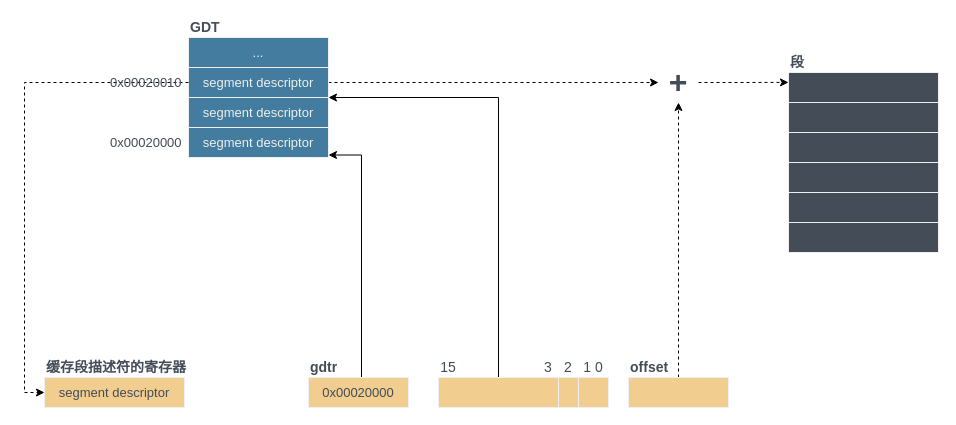
The diagram is 956 pixels wide and 425 high, and some of its shapes have lost their labels. The box of each missing label's shape, as (x1, y1, x2, y2) in pixels:
index: (438, 376, 558, 408)
RPL: (578, 376, 608, 408)
TI: (558, 376, 578, 408)
